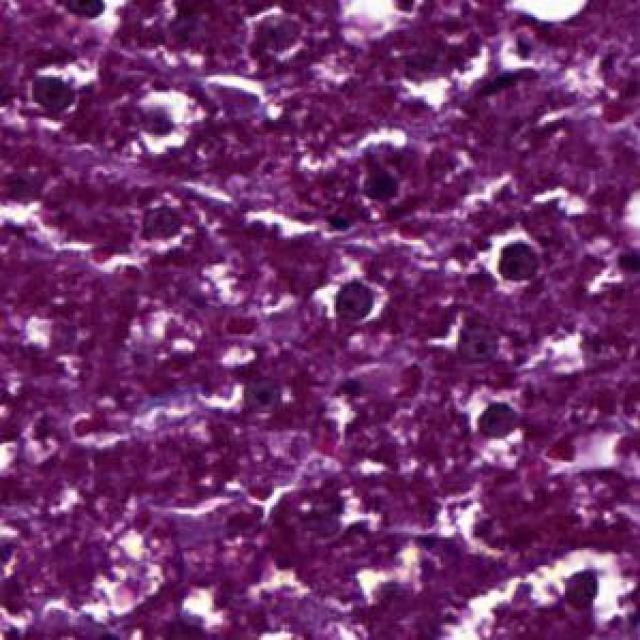inflammation: (475, 220, 559, 300), (310, 259, 398, 334), (458, 389, 531, 468), (124, 92, 206, 154)
